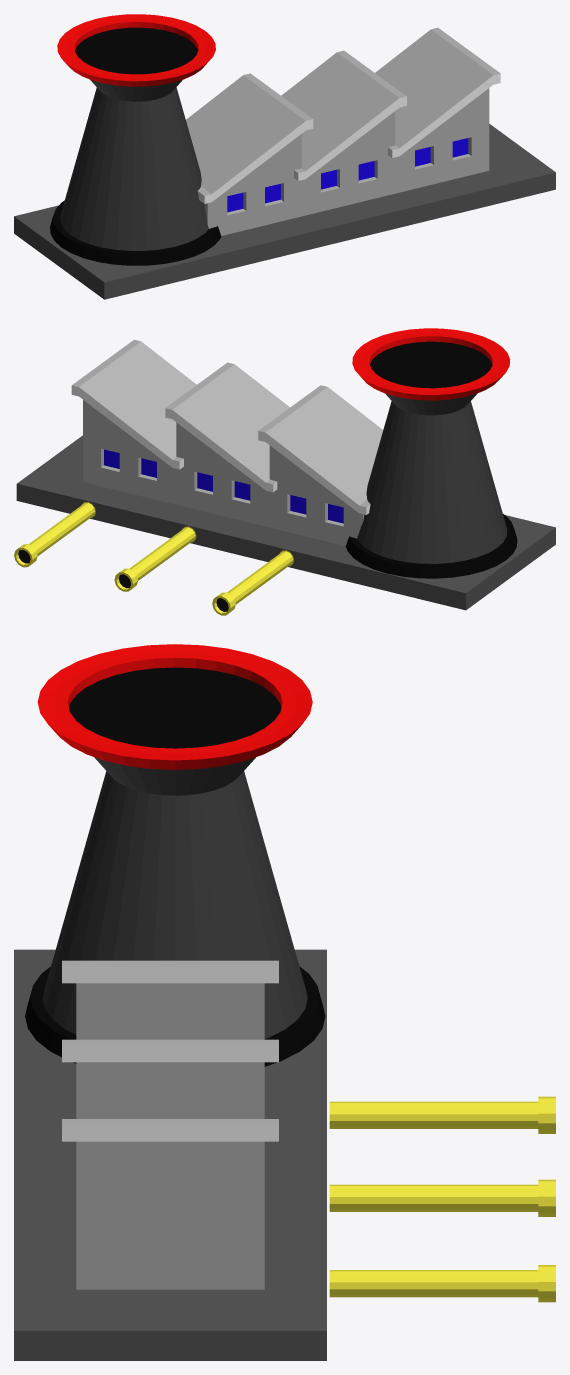
Rendered from factory.glb.
3 renders of one model, top to bottom at view 1: azimuth 30°, elevation 25°; view 2: azimuth 150°, elevation 25°; view 3: azimuth 270°, elevation 25°, orthographic. The views are drawn at different scales.
Visible parts, largest first — view 1: Chimney, Cube, Factory, Factory.002, Factory.001; view 2: Chimney, Cube, Factory, Factory.002, Factory.001; view 3: Cube, Chimney, Factory.002, Factory, Factory.001.
Boxes of the visible parts, x1=… form: Chimney: x1=50, y1=14, x2=221, y2=265; Cube: x1=14, y1=124, x2=555, y2=299; Factory: x1=186, y1=73, x2=313, y2=235; Factory.002: x1=375, y1=27, x2=500, y2=193; Factory.001: x1=281, y1=50, x2=406, y2=216; Chimney: x1=345, y1=328, x2=517, y2=578; Cube: x1=14, y1=435, x2=555, y2=615; Factory: x1=258, y1=385, x2=383, y2=545; Factory.002: x1=71, y1=339, x2=196, y2=504; Factory.001: x1=165, y1=362, x2=289, y2=527; Cube: x1=14, y1=949, x2=555, y2=1360; Chimney: x1=25, y1=644, x2=325, y2=1066; Factory.002: x1=62, y1=1119, x2=278, y2=1289; Factory: x1=62, y1=960, x2=278, y2=1039; Factory.001: x1=62, y1=1039, x2=278, y2=1118.
Bounding box in the file's own units: 9.59 × 4.05 × 5.76.
